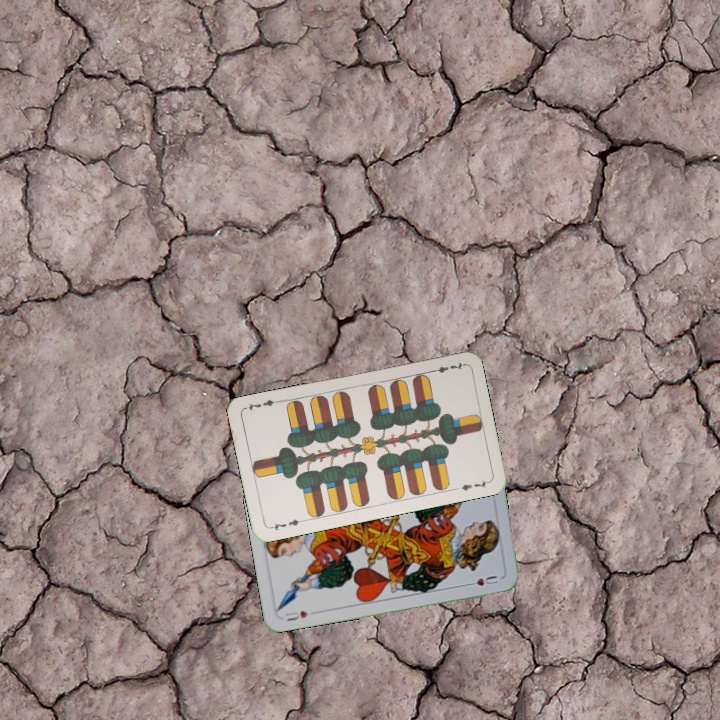E7: (266, 515, 306, 533), (426, 358, 466, 376)
HU: (281, 607, 311, 624)
